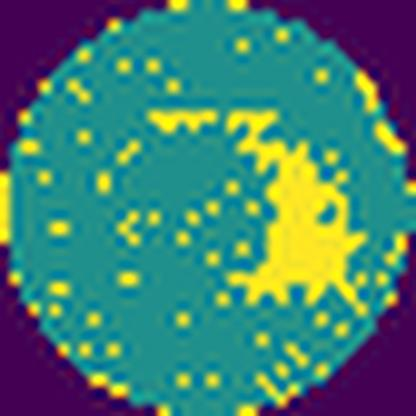Loc: (217, 111, 366, 311)
